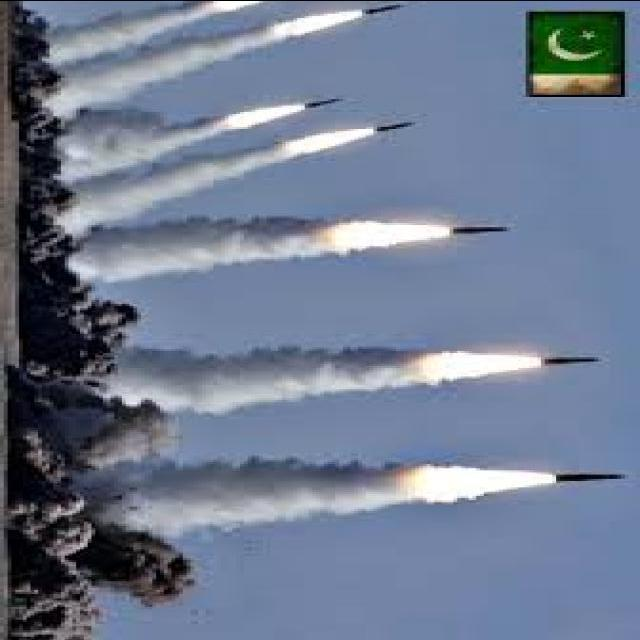Missile: (551, 470, 635, 483), (446, 222, 518, 236), (295, 95, 351, 110), (368, 117, 426, 131), (535, 354, 607, 365), (359, 2, 411, 14)
